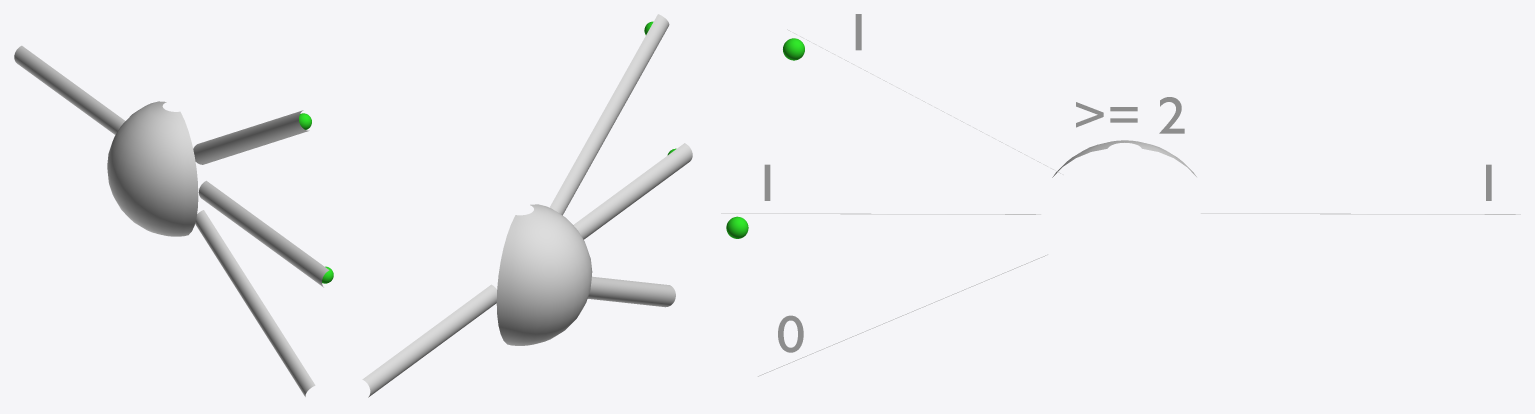
Rendered from aha2.glb.
3 views of the same model, side by side, from view 1: azimuth 30°, elevation 25°; view 2: azimuth 150°, elevation 25°; view 3: azimuth 270°, elevation 25° (orthographic). The views are drawn at different scales.
Visible parts, largest first — view 1: Sphere, Cylinder.001, Cylinder.002, Cylinder, Cylinder.003; view 2: Sphere, Cylinder, Cylinder.003, Cylinder.002, Cylinder.001; view 3: Text.004.
Part boxes in pixels (x1,y1,x2,y2): Sphere: (107,101,198,236); Cylinder.001: (195,210,315,396); Cylinder.002: (198,180,329,287); Cylinder: (193,110,309,164); Cylinder.003: (14,45,125,134); Sphere: (496,204,592,345); Cylinder: (549,14,669,215); Cylinder.003: (362,284,496,397); Cylinder.002: (573,143,692,239); Cylinder.001: (587,276,675,307); Text.004: (1076,97,1184,133).
Bounding box in the file's own units: 2.1 × 8.91 × 16.68.
